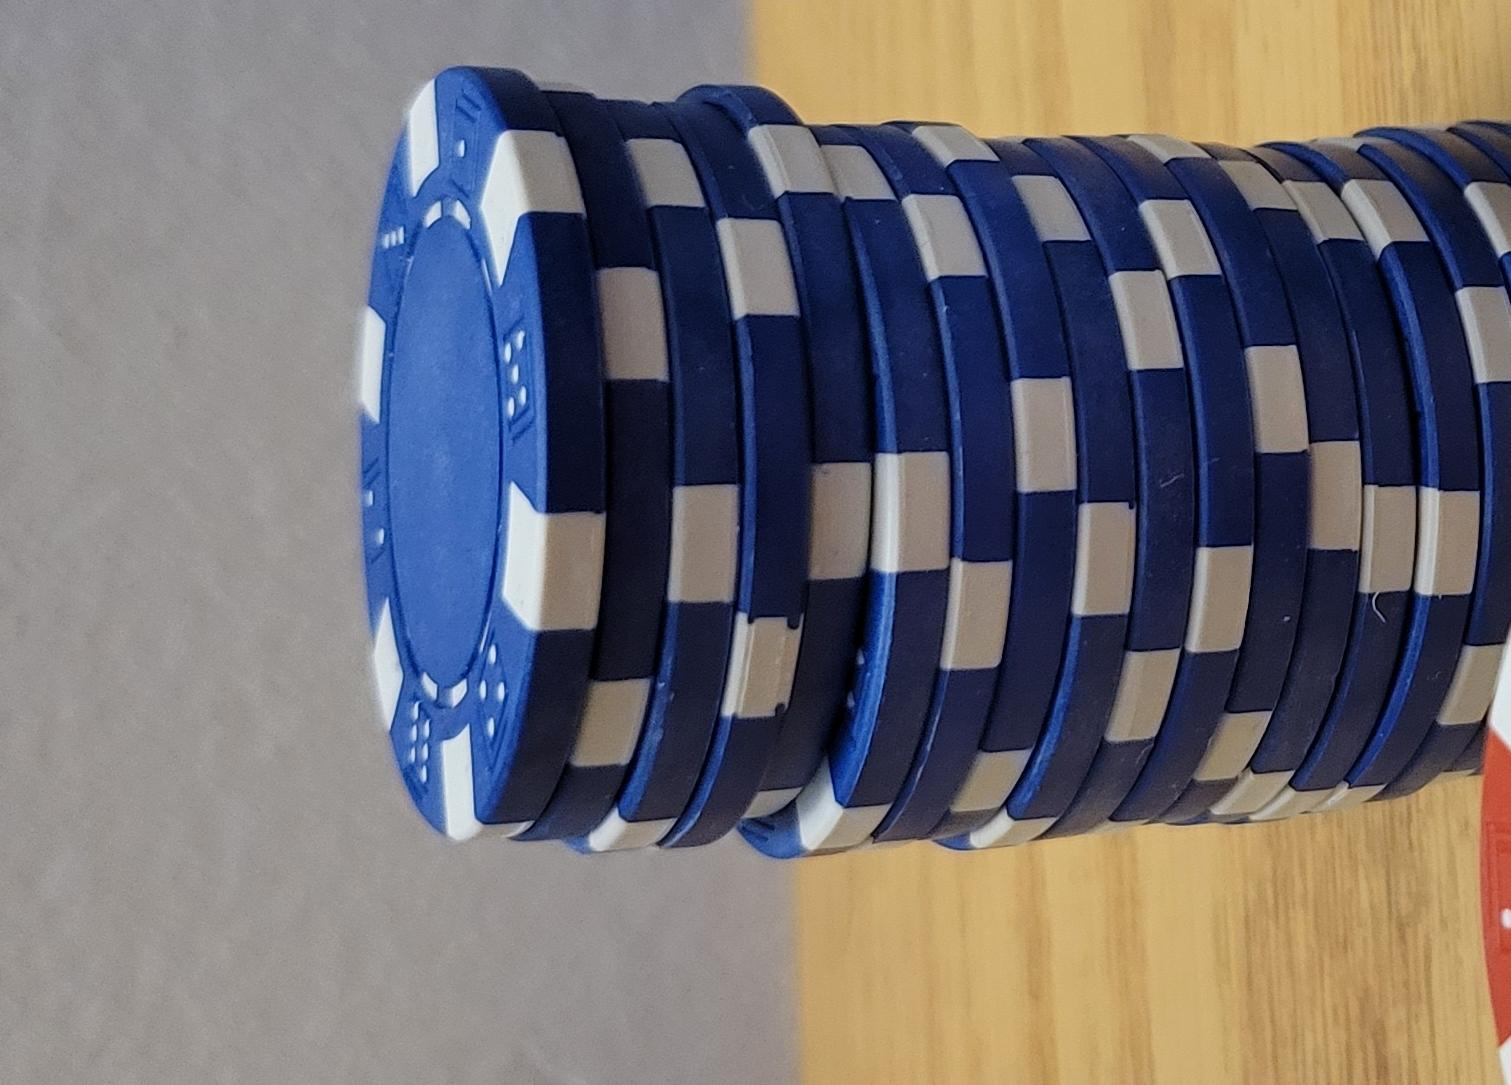Chip: (1, 426, 1044, 1085)
